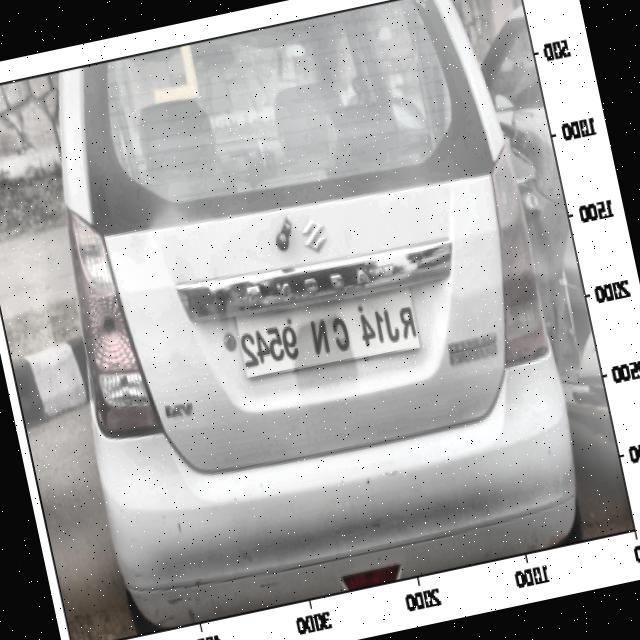license_plate: (231, 284, 426, 385)
